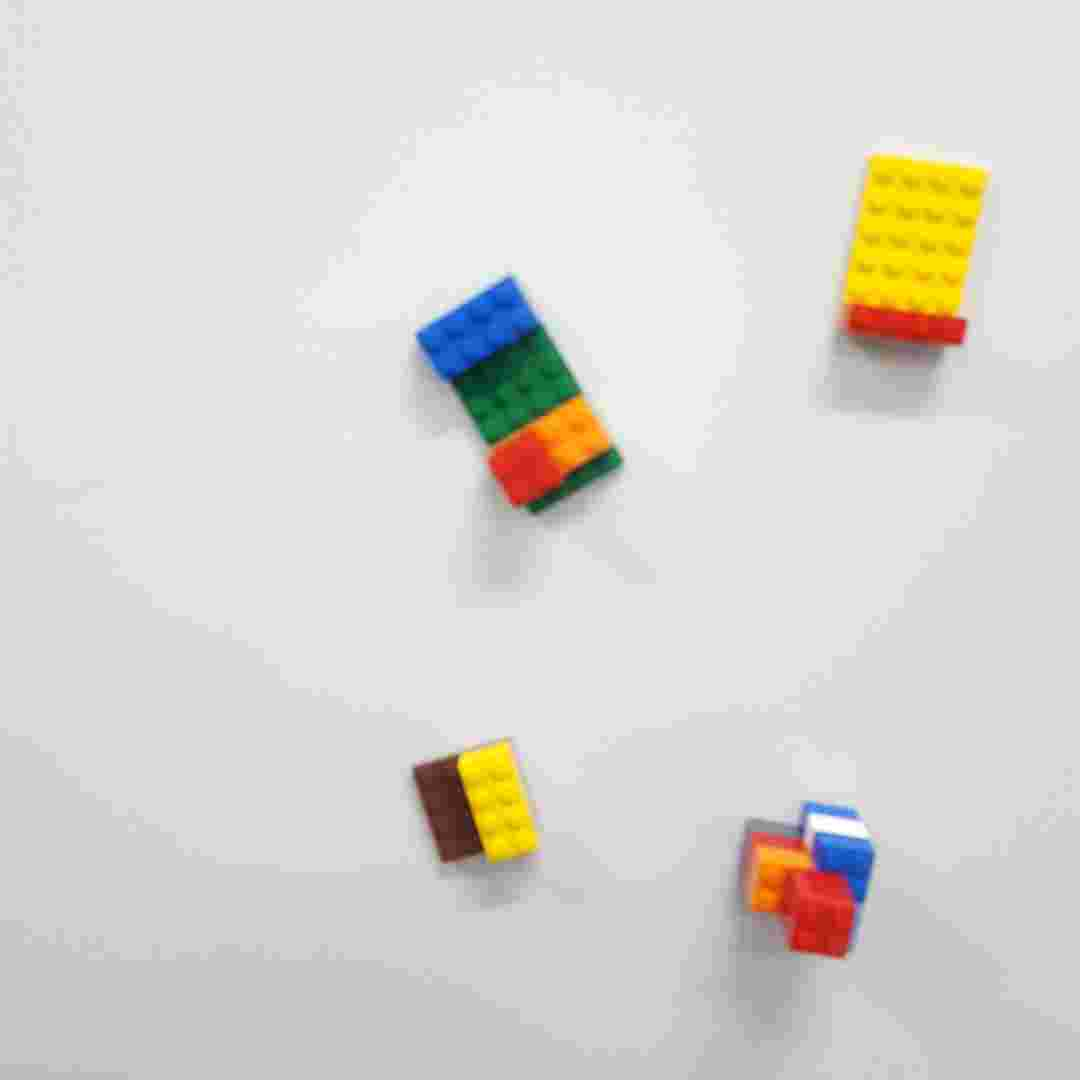LEGO: (409, 267, 633, 523), (830, 152, 996, 352), (723, 798, 877, 970), (406, 734, 554, 874)
